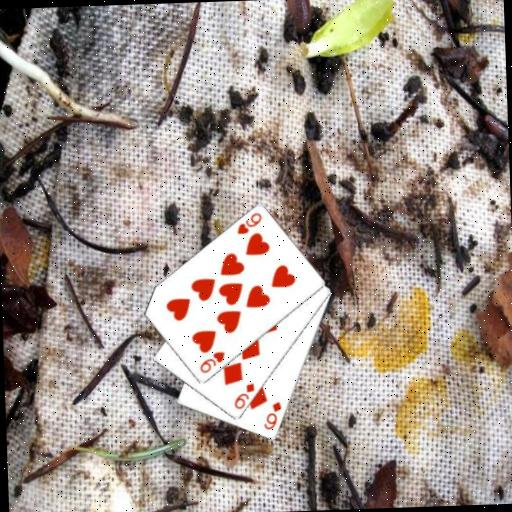6D: (260, 399, 284, 432)
9D: (230, 380, 257, 411)
9H: (233, 209, 264, 237), (196, 348, 227, 375)
